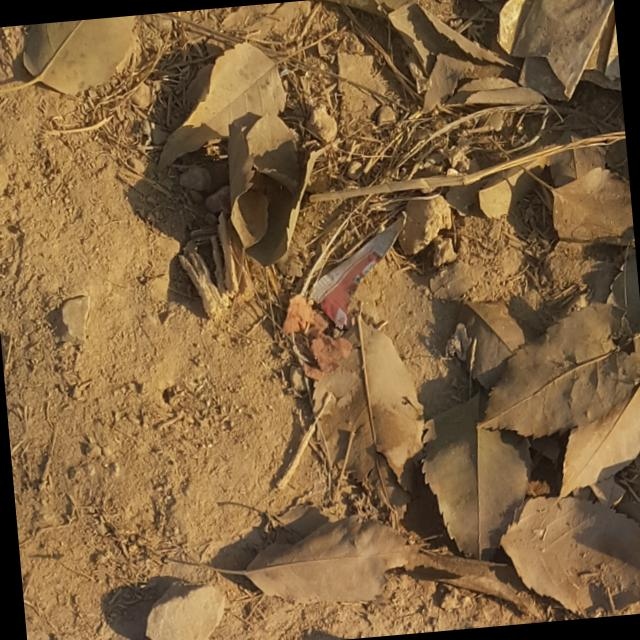paper: (167, 22, 339, 270), (294, 301, 444, 503), (475, 465, 640, 626), (468, 300, 640, 449), (203, 509, 439, 616), (509, 144, 636, 274), (0, 15, 141, 109)
